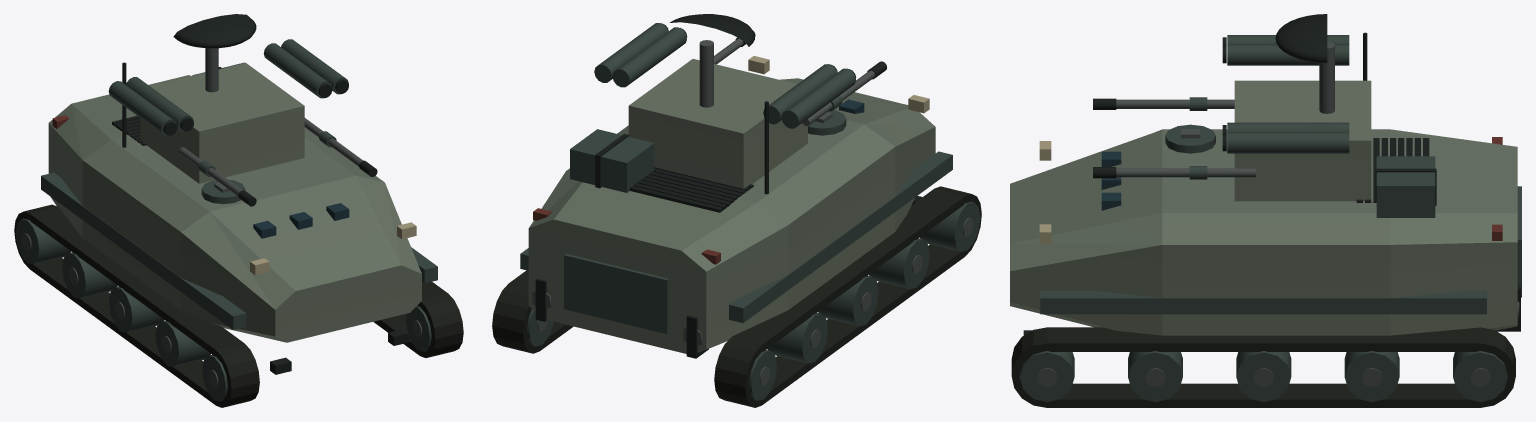
The model's file is spaa-lod.glb.
3 views of the same model, side by side, from view 1: azimuth 30°, elevation 25°; view 2: azimuth 150°, elevation 25°; view 3: azimuth 270°, elevation 25° (orthographic). The views are drawn at different scales.
Parts seen in each view (by area): view 1: equipment (×6); view 2: equipment (×5); view 3: equipment (×6).
Boxes of the visible parts, x1=… form: equipment (×6): x1=14, y1=14, x2=463, y2=407; equipment (×5): x1=492, y1=14, x2=981, y2=407; equipment (×6): x1=1010, y1=14, x2=1521, y2=407.
Size of the model in its own units: 3.29 by 3.56 by 5.24.
